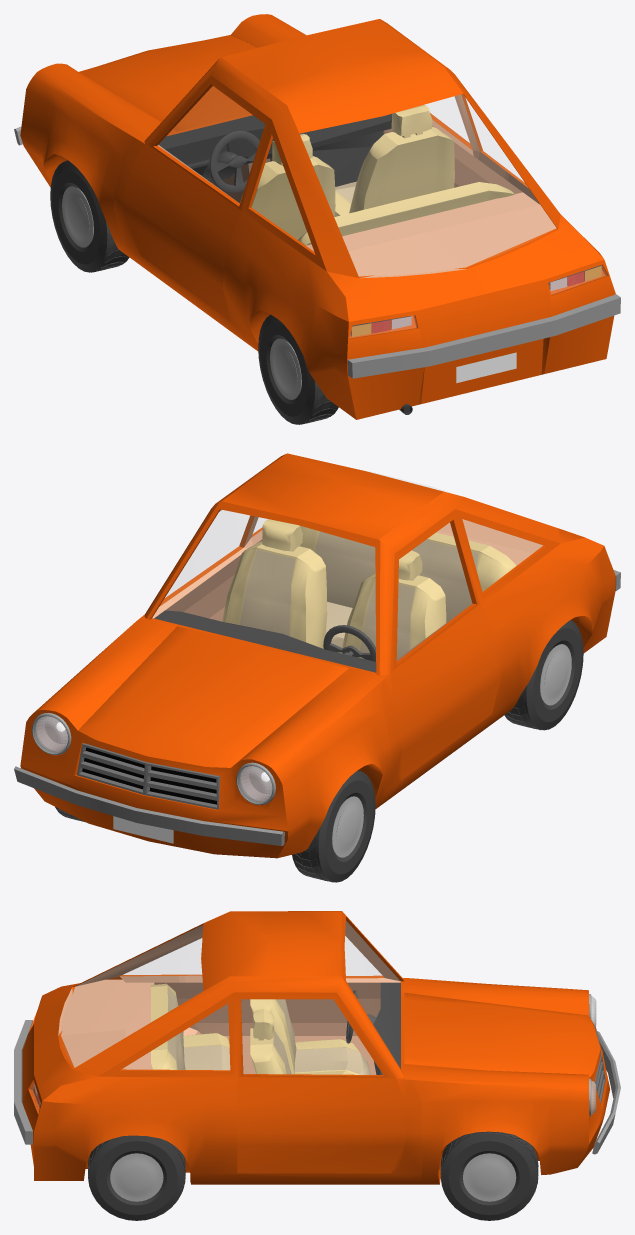
Rendered from car_model.gltf.
3 views of the same model, one above another, from view 1: azimuth 30°, elevation 25°; view 2: azimuth 150°, elevation 25°; view 3: azimuth 270°, elevation 25° (orthographic). The views are drawn at different scales.
Parts seen in each view (by area): view 1: Cube.001, Cube.012, Cube.007, Cube.011, Cube.013, Cylinder.001, Cylinder.002, Cube.010, Cube.009, Cube, Circle, Cube.014 (+2 smaller); view 2: Cube.001, Cube.012, Cube.007, Cube.009, Cylinder.001, Cube, Cube.004, Cylinder.002, Cube.002, Cube.010, Cube.011, Cube.006 (+3 smaller); view 3: Cube.001, Cube.012, Cylinder.004, Cylinder.003, Cube, Cube.009, Cube.010, Cube.007, Cube.011, Cube.013, Cube.002.
Part boxes in pixels (x1,y1,x2,y2): Cube.001: [20, 14, 615, 419]; Cube.012: [79, 35, 257, 131]; Cube.007: [334, 105, 454, 216]; Cube.011: [158, 114, 391, 186]; Cube.013: [347, 294, 620, 378]; Cylinder.001: [50, 160, 129, 272]; Cylinder.002: [258, 314, 338, 424]; Cube.010: [167, 86, 527, 187]; Cube.009: [298, 182, 514, 245]; Cube: [240, 133, 335, 239]; Circle: [201, 131, 259, 192]; Cube.014: [349, 265, 606, 337]; Cube.001: [20, 453, 615, 858]; Cube.012: [78, 626, 348, 767]; Cube.007: [222, 519, 327, 648]; Cube.009: [299, 525, 515, 653]; Cylinder.001: [292, 770, 375, 882]; Cube: [341, 550, 446, 659]; Cube.004: [77, 743, 220, 809]; Cylinder.002: [504, 620, 583, 730]; Cube.002: [14, 766, 284, 845]; Cube.010: [160, 472, 448, 605]; Cube.011: [154, 610, 376, 672]; Cube.006: [32, 713, 275, 804]; Cube.001: [22, 911, 609, 1184]; Cube.012: [404, 993, 600, 1077]; Cylinder.004: [440, 1131, 538, 1220]; Cylinder.003: [88, 1135, 185, 1220]; Cube: [250, 999, 370, 1074]; Cube.009: [151, 983, 230, 1070]; Cube.010: [121, 936, 383, 977]; Cube.007: [250, 1009, 291, 1074]; Cube.011: [373, 982, 400, 1074]; Cube.013: [14, 1020, 32, 1144]; Cube.002: [592, 1031, 620, 1154].
Size of the model in its own units: 2.77 by 2.44 by 5.9.
